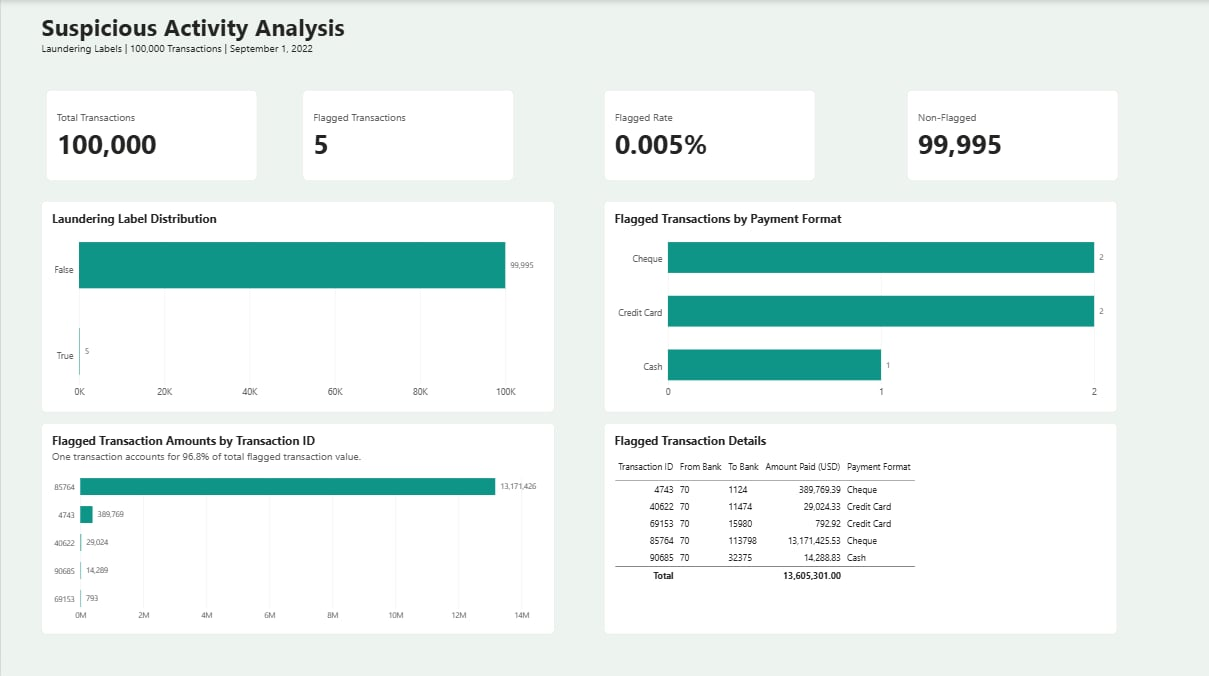

This screenshot's page, from the dashboard's own definition file:
{"tool":"powerbi","page":{"name":"Suspicious Activity","canvas":[1920,1080],"ordinal":2},"visuals":[{"type":"textbox","box":[64,16,560,88],"z":1000},{"type":"clusteredBarChart","title":"Laundering Label Distribution","fields":{"Category":["Transactions.IsLaundering"],"Y":["Transactions.Total Transactions"]},"box":[64,320,816,336],"z":2000},{"type":"clusteredBarChart","title":"Flagged Transactions by Payment Format","fields":{"Category":["Transactions.PaymentFormat"],"Y":["Transactions.Flagged Transactions"]},"box":[960,320,816,336],"z":3000},{"type":"tableEx","title":"Flagged Transaction Details","fields":{"Values":["Transactions.TransactionID","Transactions.FromBank","Transactions.ToBank","Sum(Transactions.AmountPaid)","Transactions.PaymentFormat"]},"box":[960,672,816,336],"z":5000},{"type":"cardVisual","fields":{"Data":["Transactions.Total Transactions"]},"box":[72,144,336,144],"z":7000},{"type":"cardVisual","fields":{"Data":["Transactions.Flagged Transactions"]},"box":[480,144,336,144],"z":8000},{"type":"cardVisual","fields":{"Data":["Transactions.Flagged Rate"]},"box":[960,144,336,144],"z":9000},{"type":"cardVisual","fields":{"Data":["Transactions.Non-Flagged"]},"box":[1440,144,336,144],"z":10000},{"type":"clusteredBarChart","title":"Flagged Transaction Amounts by Transaction ID","fields":{"Category":["Transactions.TransactionID"],"Y":["Sum(Transactions.AmountPaid)"]},"box":[64,672,816,336],"z":10001}]}

Visuals, with their boxes in screenshot pixels (x1, y1, x2, y2), scaled from the page's 1920x1080 canvas onto the 1209x676 screenshot:
textbox: <bbox>40, 10, 393, 65</bbox>
"Laundering Label Distribution" clusteredBarChart: <bbox>40, 200, 554, 411</bbox>
"Flagged Transactions by Payment Format" clusteredBarChart: <bbox>604, 200, 1118, 411</bbox>
"Flagged Transaction Details" tableEx: <bbox>604, 421, 1118, 631</bbox>
cardVisual - Transactions.Total Transactions: <bbox>45, 90, 257, 180</bbox>
cardVisual - Transactions.Flagged Transactions: <bbox>302, 90, 514, 180</bbox>
cardVisual - Transactions.Flagged Rate: <bbox>604, 90, 816, 180</bbox>
cardVisual - Transactions.Non-Flagged: <bbox>907, 90, 1118, 180</bbox>
"Flagged Transaction Amounts by Transaction ID" clusteredBarChart: <bbox>40, 421, 554, 631</bbox>
